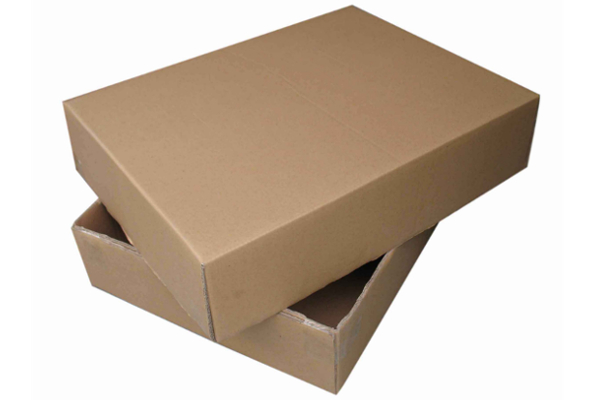Rec_Paper: (45, 1, 537, 399)
